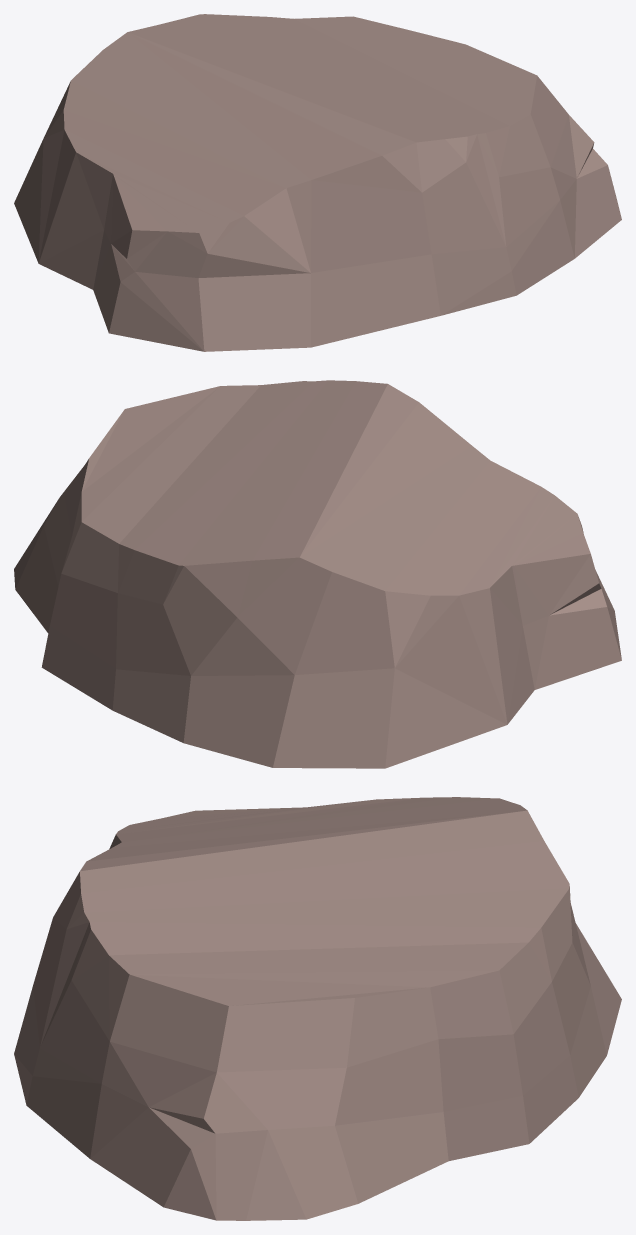
The model's file is Rock_13.fbx.
3 views of the same model, one above another, from view 1: azimuth 30°, elevation 25°; view 2: azimuth 150°, elevation 25°; view 3: azimuth 270°, elevation 25° (orthographic). The views are drawn at different scales.
Visible parts, largest first — view 1: Rock_13; view 2: Rock_13; view 3: Rock_13.
Part boxes in pixels (x1,y1,x2,y2): Rock_13: (14, 14, 621, 351); Rock_13: (14, 380, 621, 768); Rock_13: (14, 797, 621, 1220).
Size of the model in its own units: 10.08 by 3.08 by 8.43.
